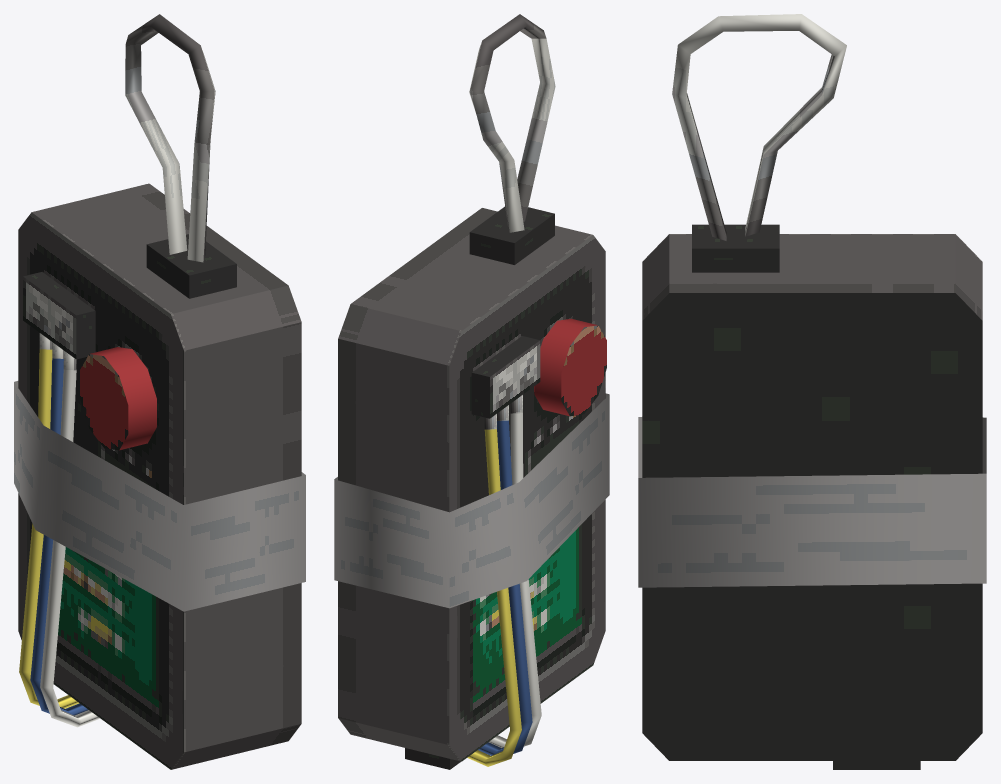
Rendered from RemoteController_Hand.fbx.
3 renders of one model, left to right at view 1: azimuth 30°, elevation 25°; view 2: azimuth 150°, elevation 25°; view 3: azimuth 270°, elevation 25°, orthographic. The views are drawn at different scales.
Parts seen in each view (by area): view 1: RemoteController; view 2: RemoteController; view 3: RemoteController.
Part boxes in pixels (x1,y1,x2,y2): RemoteController: (14,14,305,769); RemoteController: (334,14,609,769); RemoteController: (638,14,986,769).
Size of the model in its own units: 0.0401 by 0.1758 by 0.0746.
